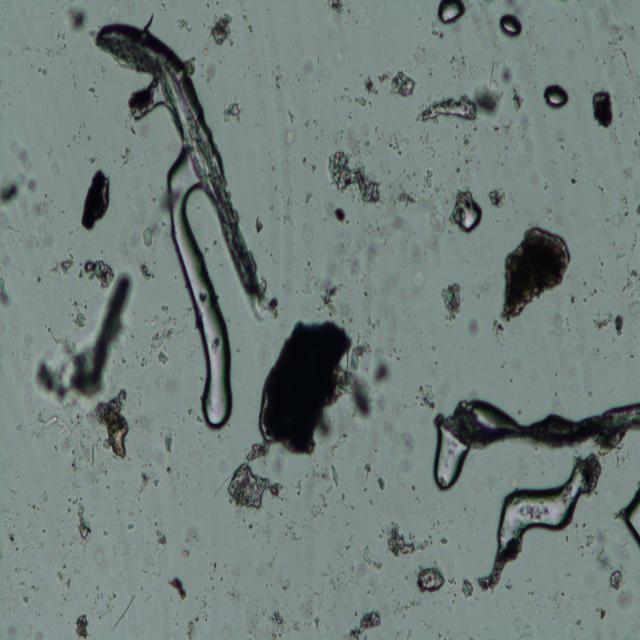Air bubble: (160, 165, 237, 428), (495, 459, 595, 560), (423, 412, 469, 494), (455, 194, 483, 232), (622, 488, 640, 544), (436, 0, 469, 29), (543, 80, 570, 111), (498, 11, 524, 42)
Background material: (36, 269, 136, 405), (496, 221, 572, 322), (31, 405, 92, 482), (130, 293, 178, 370), (330, 145, 388, 205), (593, 534, 635, 609), (92, 389, 132, 462), (347, 353, 391, 417), (230, 463, 284, 511), (302, 264, 346, 319), (80, 168, 114, 235), (382, 515, 432, 558), (418, 94, 478, 125), (476, 549, 518, 592), (436, 275, 466, 324), (78, 256, 120, 291), (376, 67, 418, 101), (474, 80, 503, 123), (342, 610, 382, 638), (590, 86, 616, 129), (72, 498, 96, 541), (147, 517, 168, 566), (0, 170, 24, 212), (187, 594, 209, 639), (10, 138, 36, 176), (427, 204, 448, 251), (414, 565, 448, 593), (210, 11, 235, 49), (262, 606, 292, 636), (414, 383, 442, 414), (592, 310, 624, 336), (316, 462, 341, 495), (64, 6, 90, 37), (220, 94, 245, 123), (135, 469, 161, 496), (392, 184, 418, 211), (168, 572, 190, 601), (623, 267, 640, 303), (71, 610, 93, 637), (135, 260, 157, 286), (485, 186, 509, 209), (153, 187, 173, 214), (48, 256, 74, 276), (138, 224, 157, 251), (325, 0, 348, 21), (458, 576, 478, 599), (0, 280, 14, 312), (362, 545, 382, 566), (386, 131, 402, 157), (422, 167, 436, 194), (163, 428, 175, 458), (512, 85, 524, 113), (501, 63, 515, 87), (364, 73, 376, 101), (253, 213, 265, 237), (333, 207, 348, 225), (6, 531, 20, 550), (377, 474, 385, 492)
Cellulose filter fibre: (92, 23, 268, 297), (446, 398, 640, 452)
Fragment: (258, 317, 352, 454)
